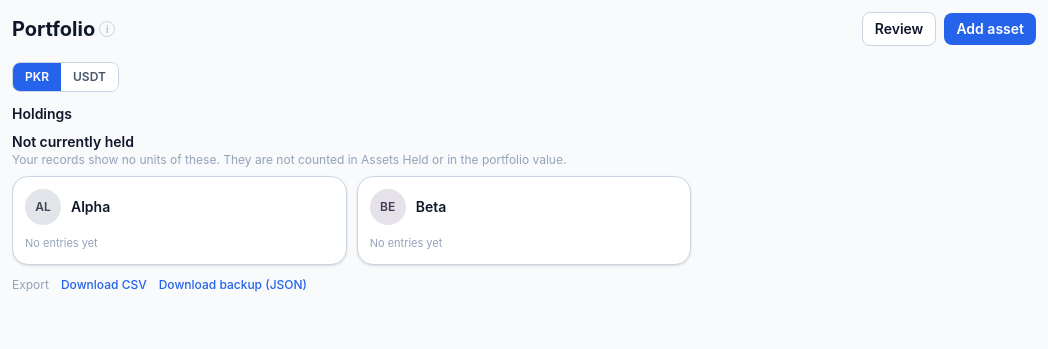
Test: delete › a token with records cannot be deleted, only archived, and the page says why
Click the button "AL Alpha No entries yet" at (43, 207), box [12,176,347,264]
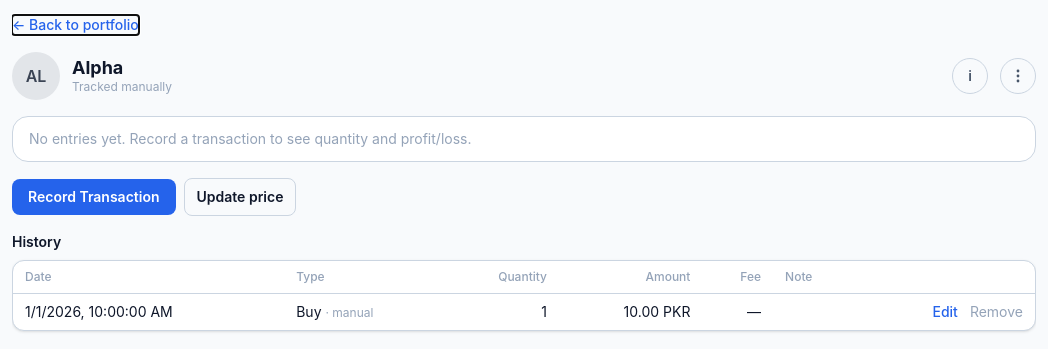
Click the button named "More actions" at (1018, 76), box [1000,58,1036,94]
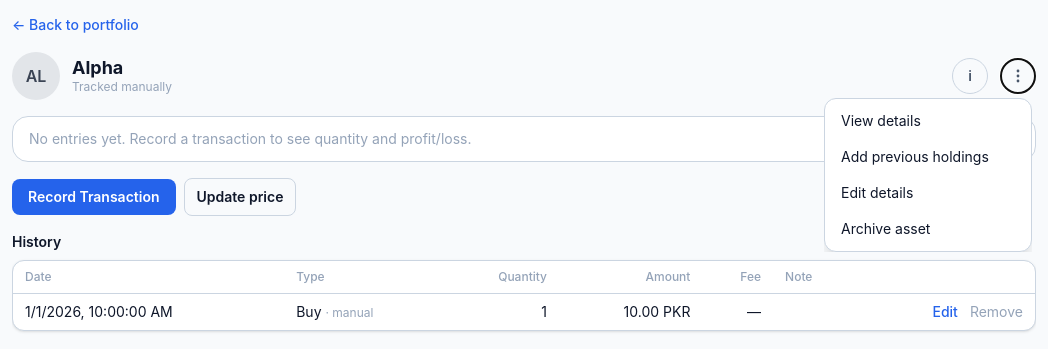
Check: the menu item "Archive asset" is shown, box [825,211,1031,247]
